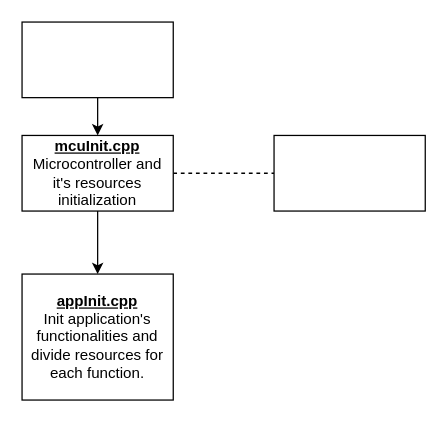
Some shapes in this 447 by 422 pixel diagram are drawn without their labels. Each missing label, with the centre of its shape:
"Initialization of mcu manager deciding about resources inits and ownerships." belongs at pixel 349 172.
"main.cpp main()" belongs at pixel 97 59.
